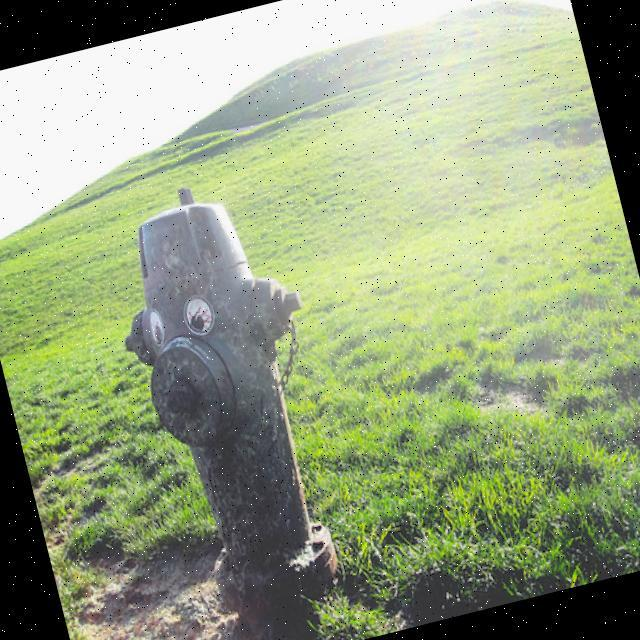fire_hydrant: (86, 163, 377, 640)
